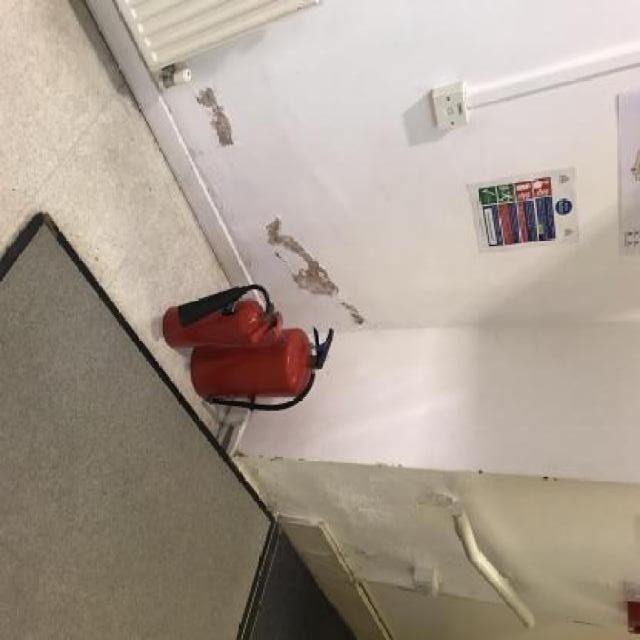fire extinguisher: (191, 326, 335, 414), (163, 285, 283, 349)
